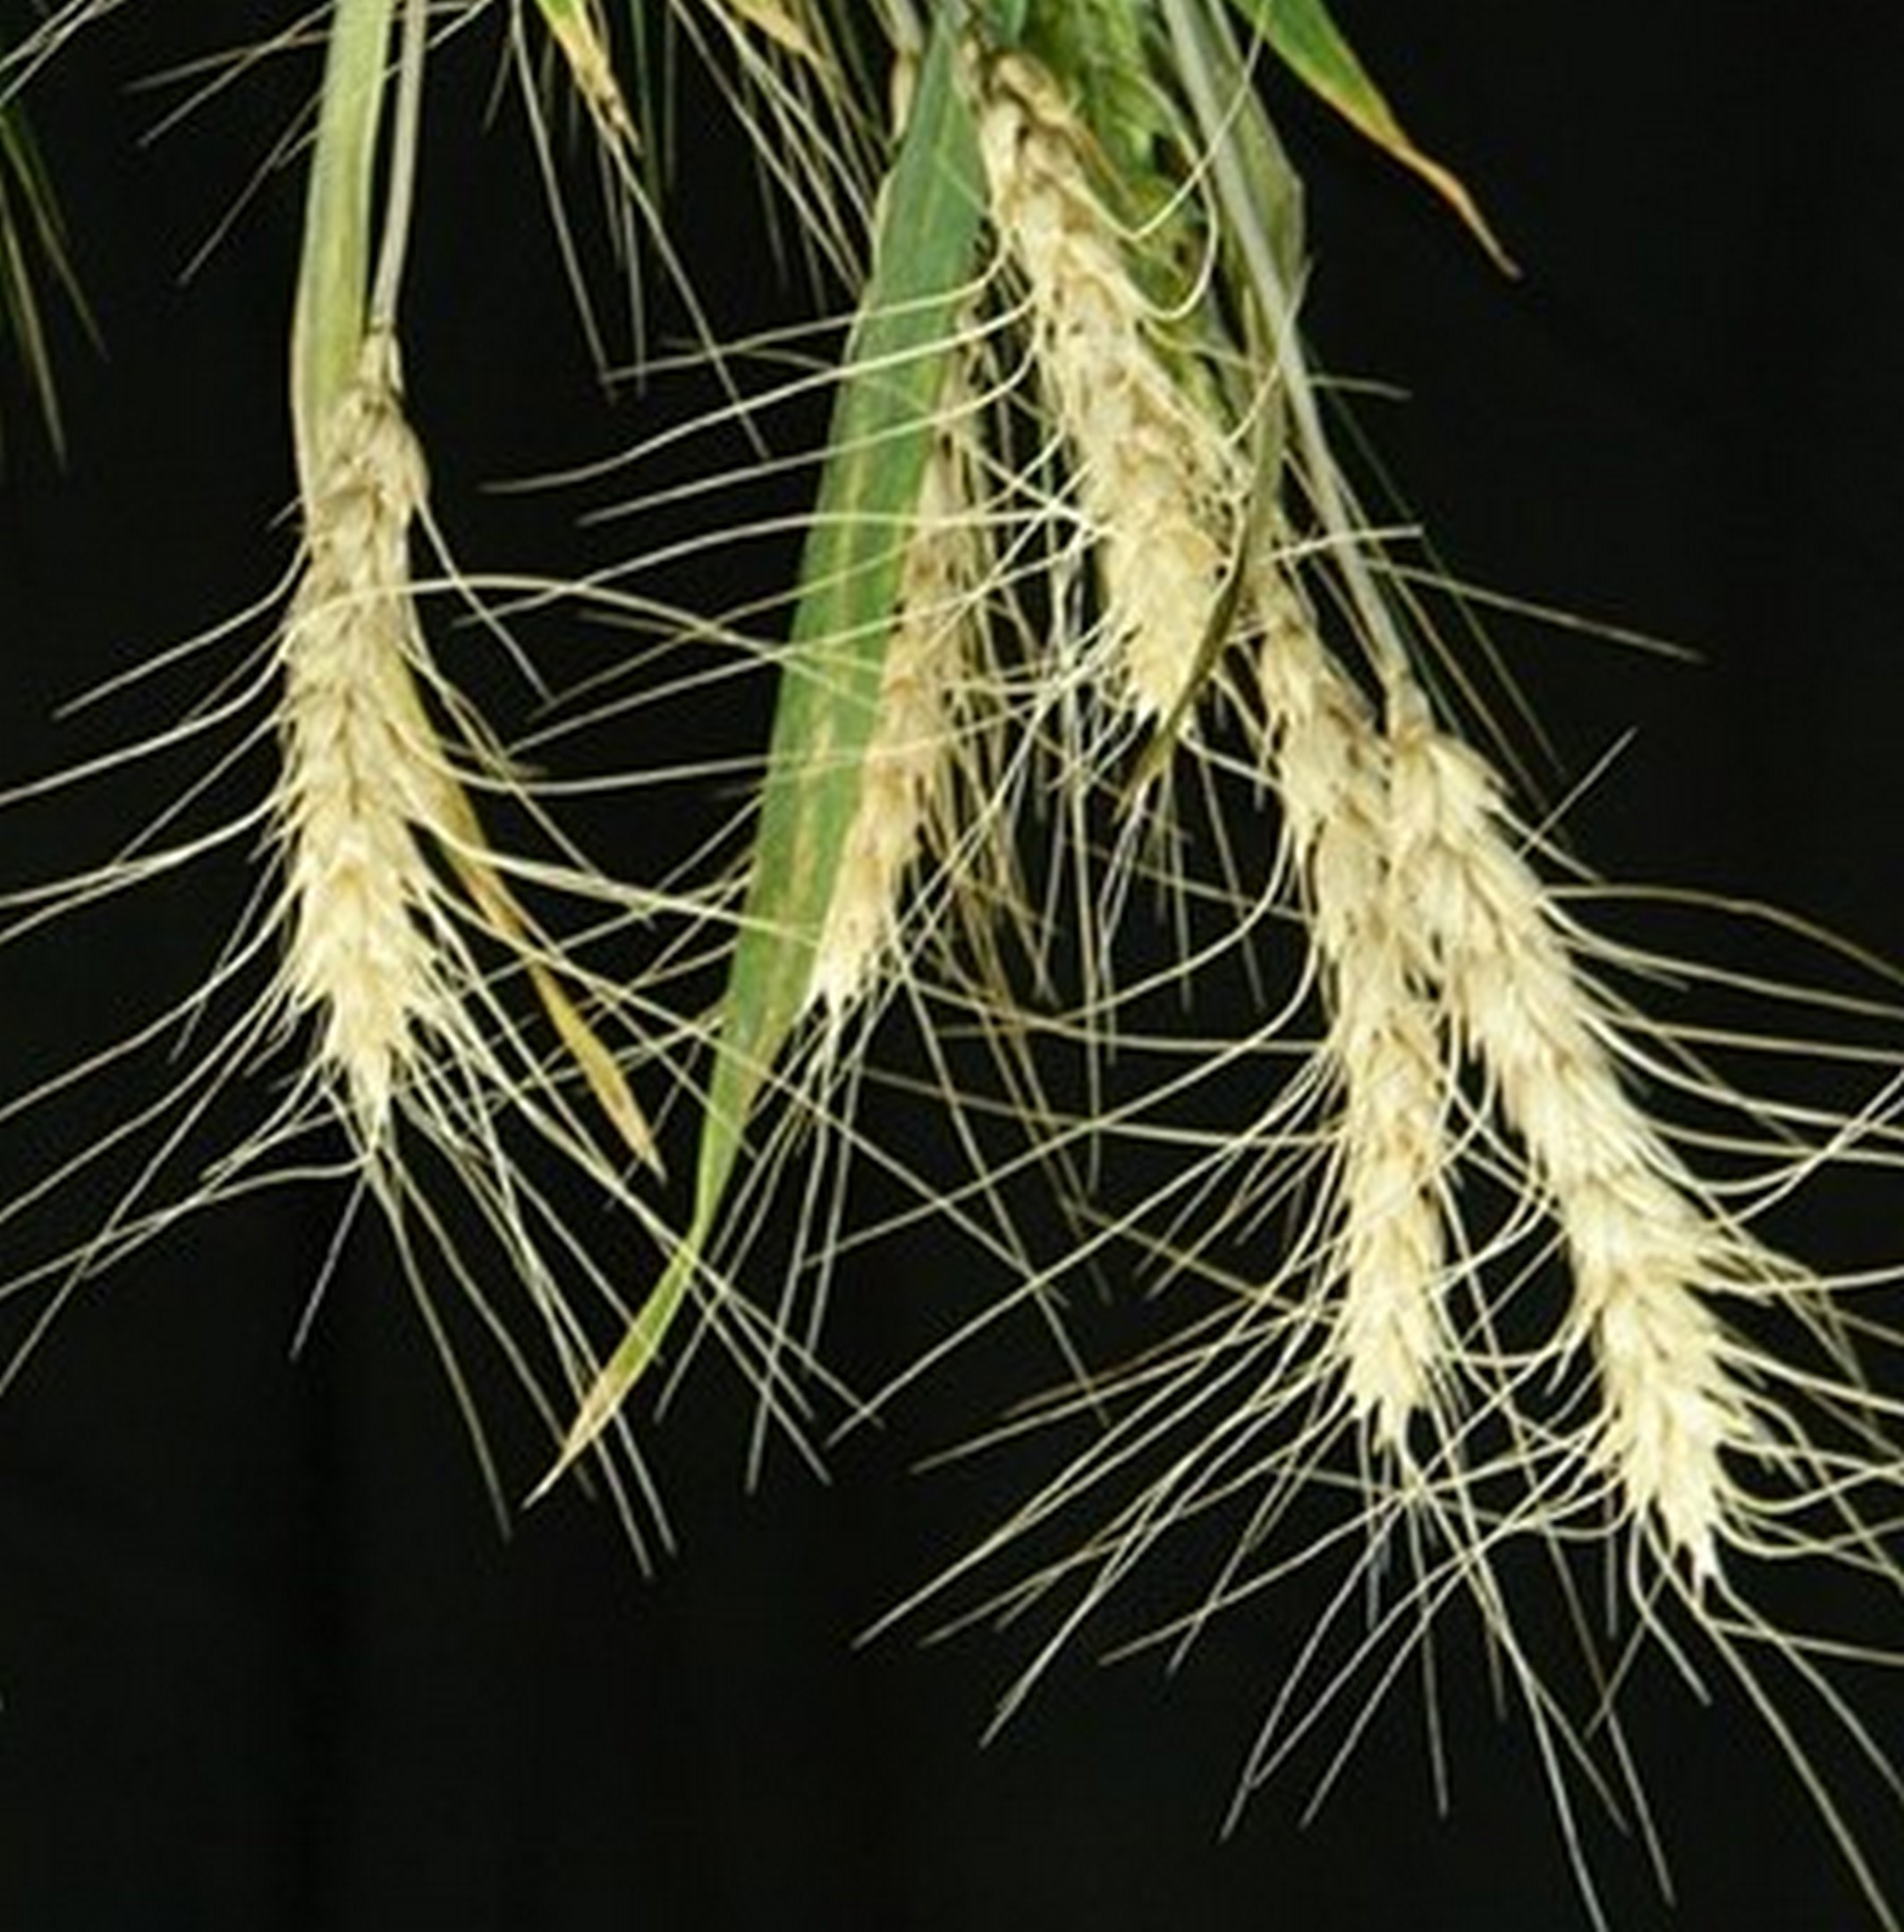Healthy Wheat: (1234, 548, 1841, 1602), (204, 291, 506, 1170)
